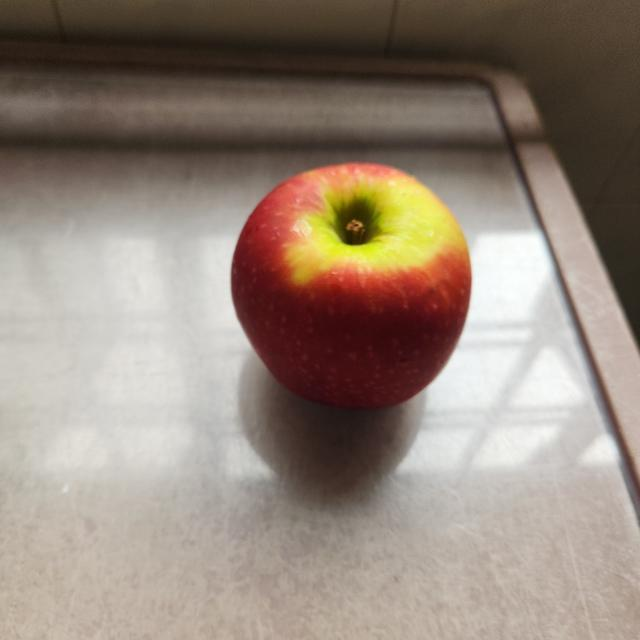apple: (225, 158, 482, 417)
